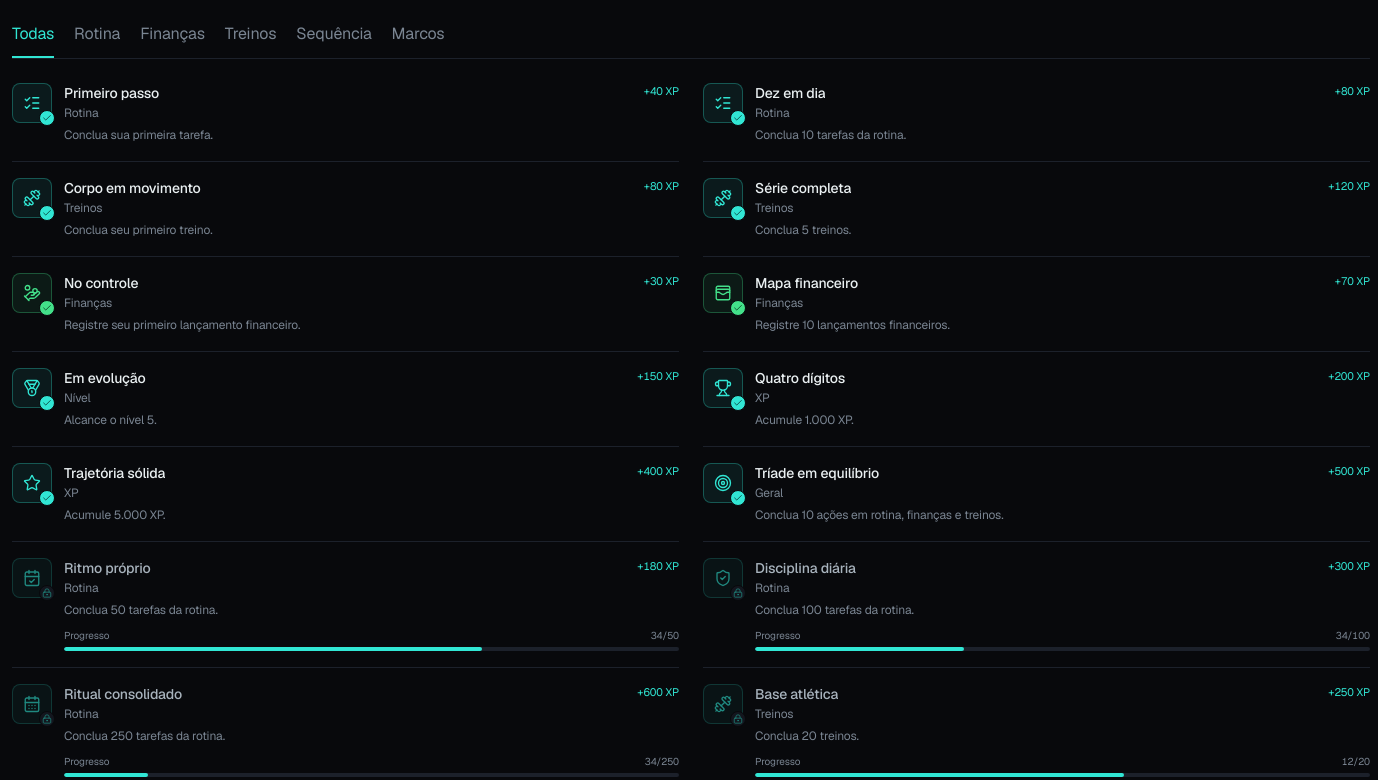
it: AchievementGrid › filtra as trilhas e mostra progresso de conquistas bloqueadas
Click the button "Finanças" at (173, 35), box [140,12,205,58]
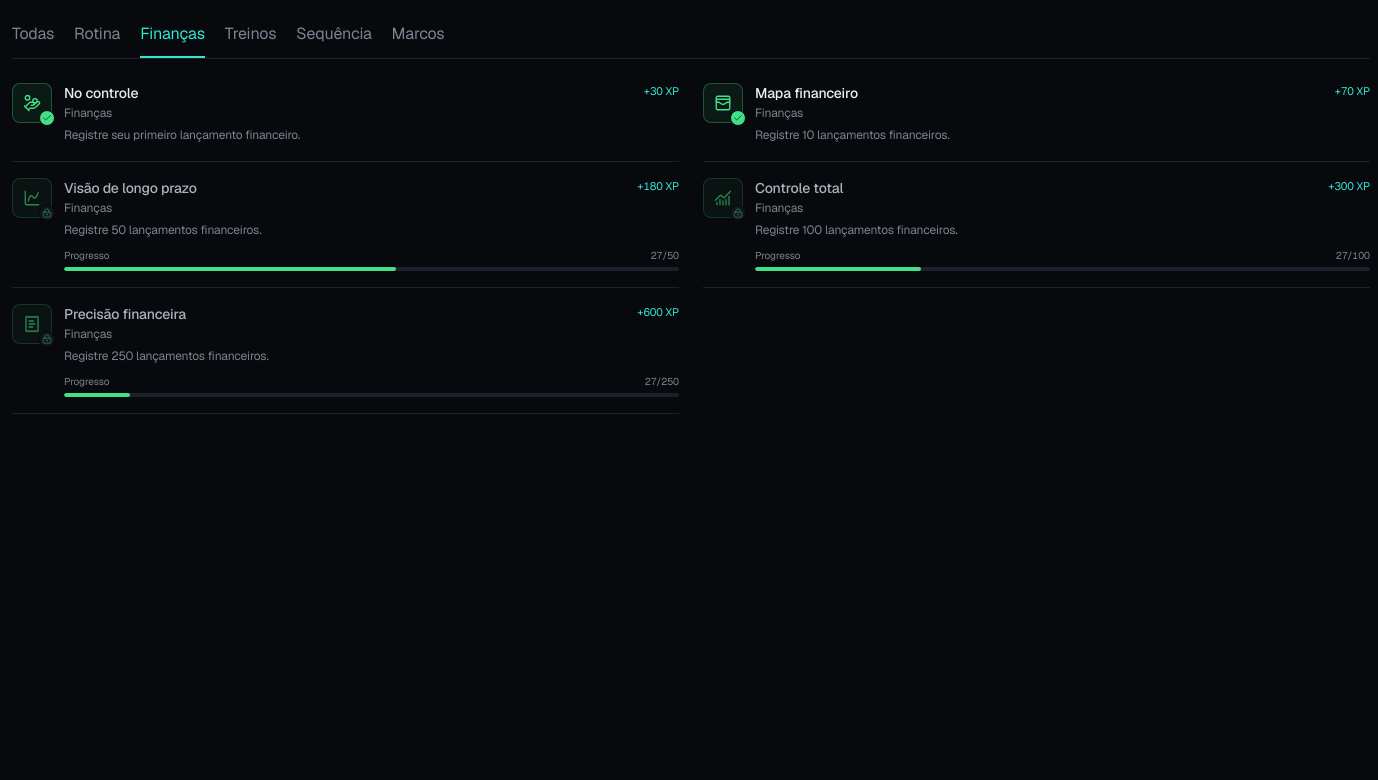
Expected: the text "Mapa financeiro" is shown, [755,83,858,103]
Now the text "Série completa" is gone
